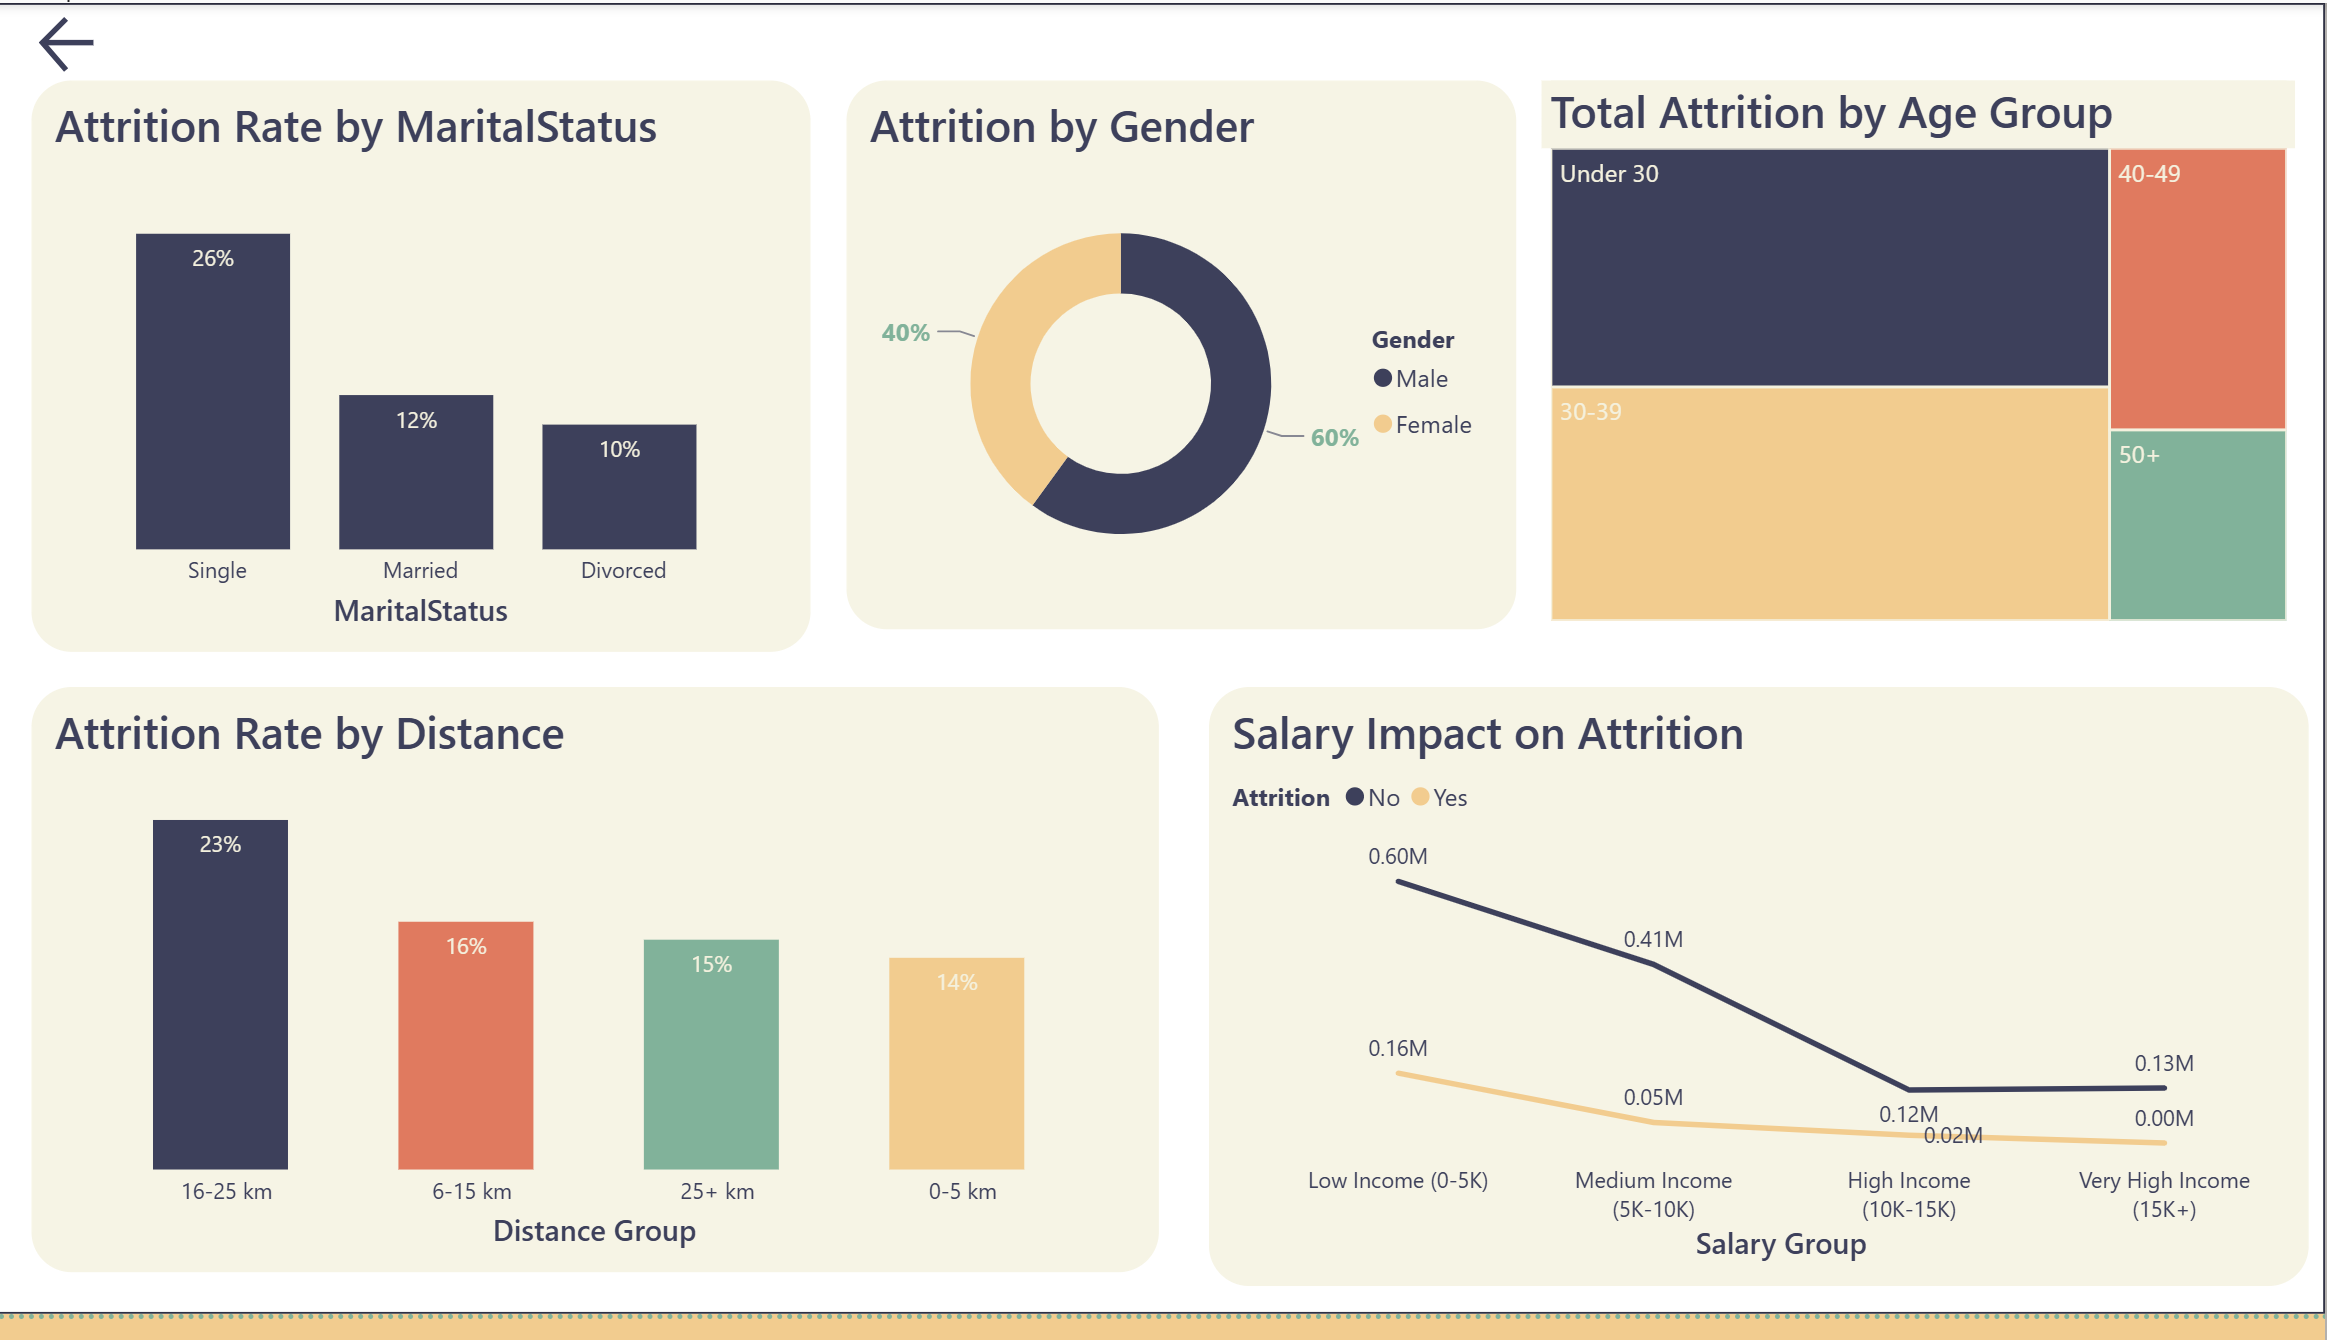

This screenshot's page, from the dashboard's own definition file:
{"tool":"powerbi","page":{"name":"Page 2","canvas":[1280,720],"ordinal":1},"visuals":[{"type":"shape","box":[0,0,1280,720],"z":0},{"type":"lineChart","title":"Salary Impact on Attrition","fields":{"Category":["HR Data.Salary Group"],"Series":["HR Data.Attrition"],"Y":["Sum(HR Data.EmployeeNumber)"]},"box":[667.5,376.2,603.8,328.8],"z":1000},{"type":"clusteredColumnChart","fields":{"Category":["HR Data.MaritalStatus"],"Y":["HR Data.Attrition Rate"]},"box":[21.2,42.5,427.5,313.8],"z":2000},{"type":"treemap","fields":{"Group":["HR Data.Age Group"],"Values":["HR Data.Total Attrition"]},"box":[848.8,42.5,413.8,301.2],"z":3000},{"type":"donutChart","title":" Attrition by Gender","fields":{"Category":["HR Data.Gender"],"Y":["CountNonNull(HR Data.Attrition)"]},"box":[467.5,42.5,367.5,301.2],"z":4000},{"type":"columnChart","title":"Attrition Rate by Distance","fields":{"Category":["HR Data.Distance Group"],"Y":["HR Data.Attrition Rate"]},"box":[21.2,376.2,618.8,321.2],"z":5000},{"type":"actionButton","box":[21.2,2.5,168.8,40],"z":6000}]}

Visuals, with their boxes in screenshot pixels (x1, y1, x2, y2), scaled from the page's 1280x720 canvas onto the 2327x1340 screenshot:
shape: 0,0,2326,1339
"Salary Impact on Attrition" lineChart: 1213,700,2311,1312
clusteredColumnChart - HR Data.MaritalStatus x HR Data.Attrition Rate: 39,79,816,663
treemap - HR Data.Age Group x HR Data.Total Attrition: 1543,79,2295,640
" Attrition by Gender" donutChart: 850,79,1518,640
"Attrition Rate by Distance" columnChart: 39,700,1164,1298
actionButton: 39,5,345,79
